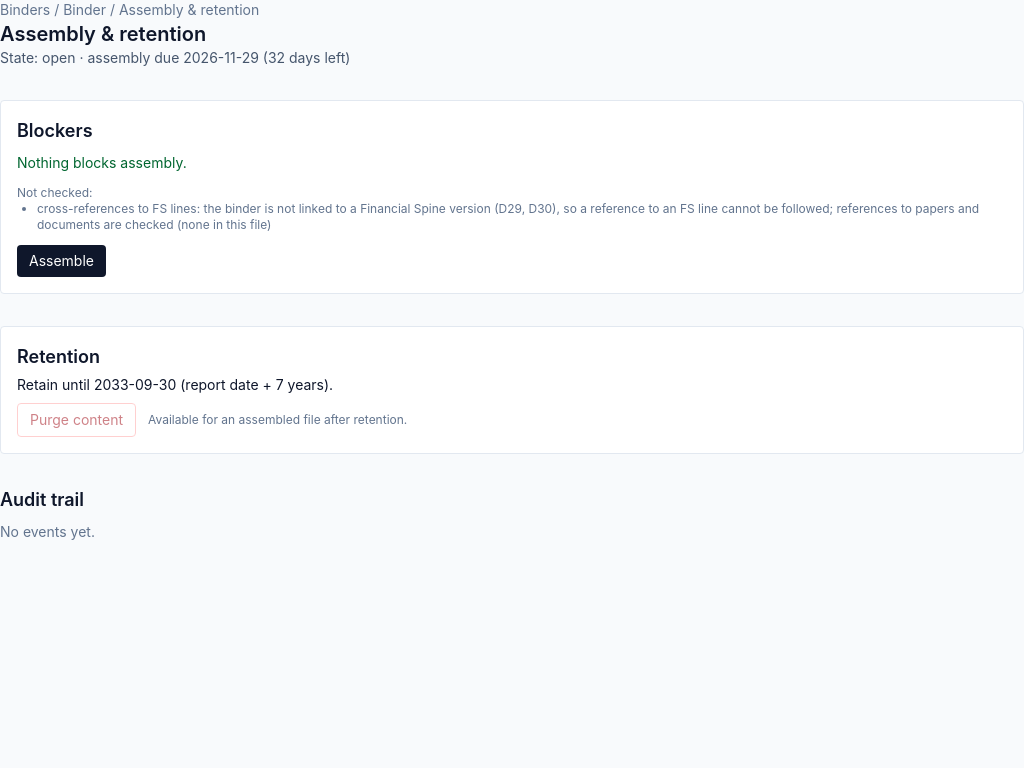
Scenario: after Assemble the screen shows the assembled state at once, even if a reload lags behind the commit
Click the button "Assemble": (62, 261) [17,245,106,277]
(page scrolled)
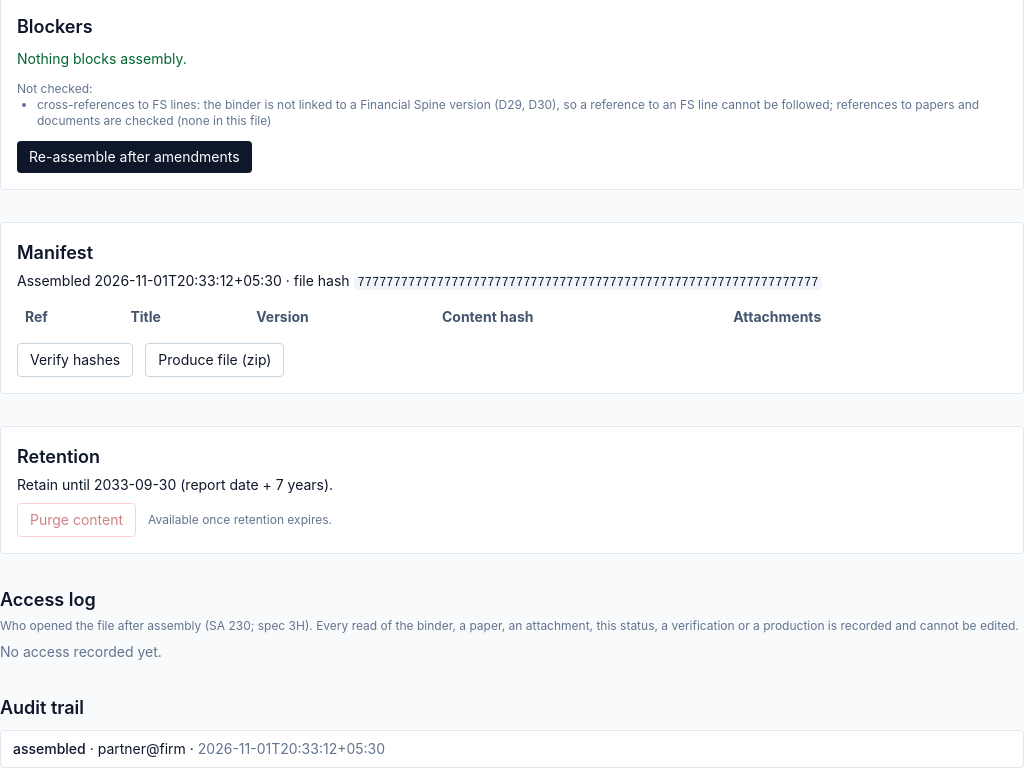
Expected: the button "Re-assemble after amendments" is shown, [17,141,252,173]
Expected: the button "Verify hashes" is shown, [17,343,133,377]
Expected: the link "Produce file (zip)" is shown, [145,343,284,377]
